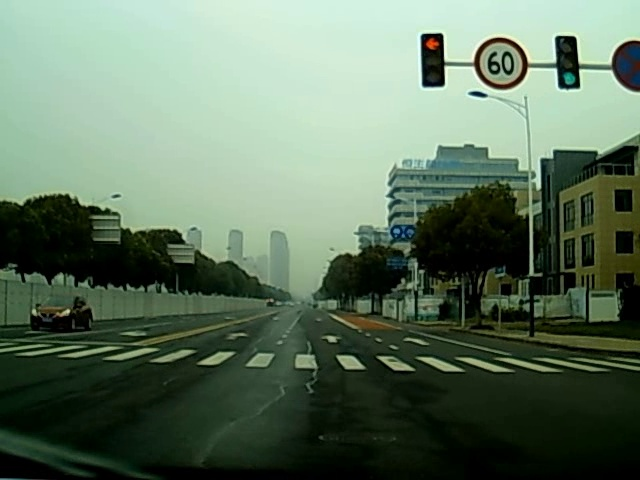Traffic_Light_stop: (555, 36, 579, 89), (420, 35, 442, 92)
